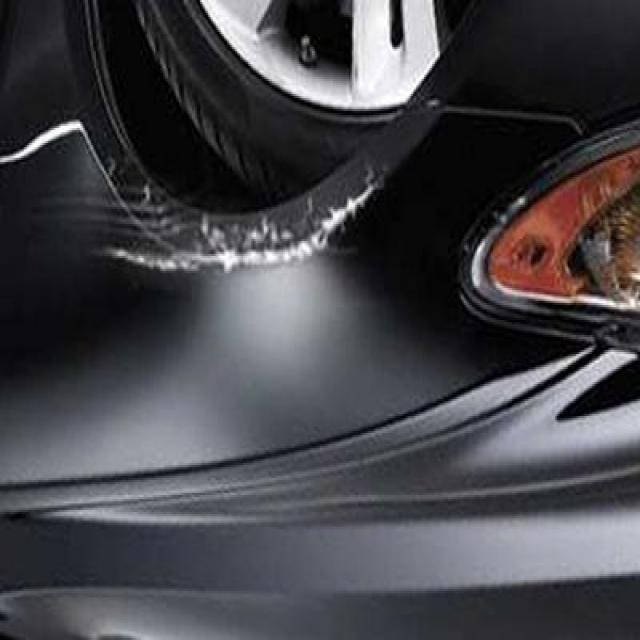scratch: (66, 142, 420, 296)
